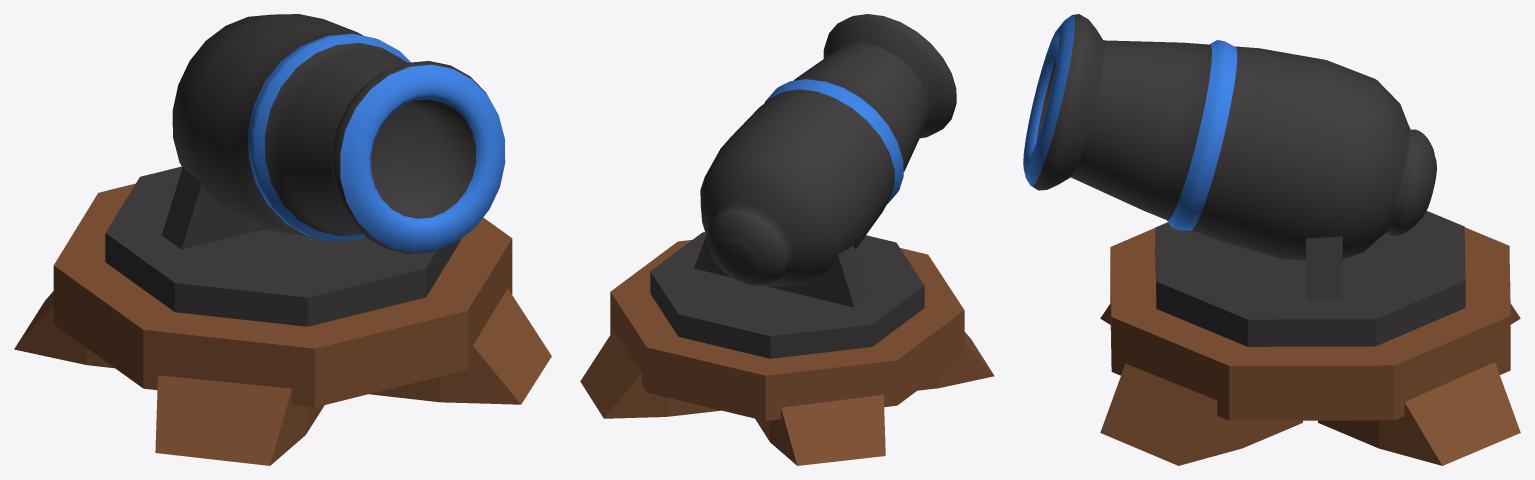
File: BaseElementalCannon.fbx
The picture shows the model from 3 angles, left to right: view 1: azimuth 30°, elevation 25°; view 2: azimuth 150°, elevation 25°; view 3: azimuth 270°, elevation 25°; orthographic projection. The views are drawn at different scales.
Parts seen in each view (by area): view 1: cannon, cannon_Base; view 2: cannon, cannon_Base; view 3: cannon, cannon_Base.
Part boxes in pixels (x1,y1,x2,y2): cannon: (105, 14, 505, 326); cannon_Base: (14, 183, 551, 465); cannon: (650, 14, 956, 358); cannon_Base: (580, 239, 994, 465); cannon: (1023, 14, 1465, 346); cannon_Base: (1100, 227, 1520, 465).
Size of the model in its own units: 36.83 by 33.64 by 42.9.
